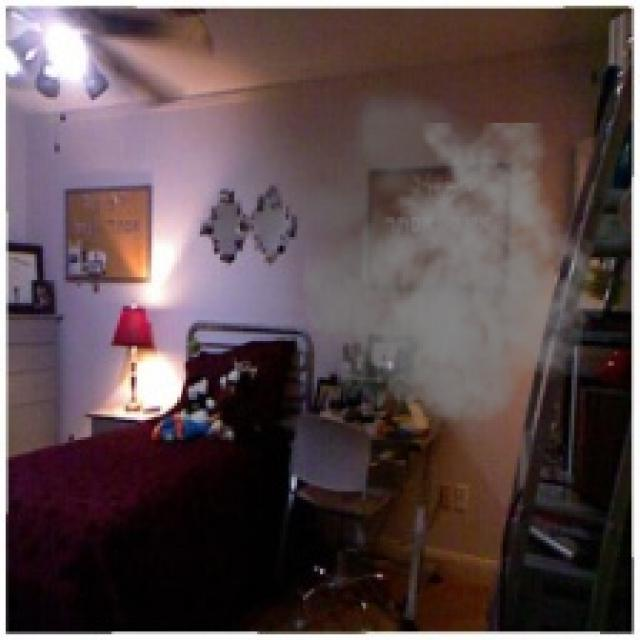Smoke: (194, 77, 606, 449)
